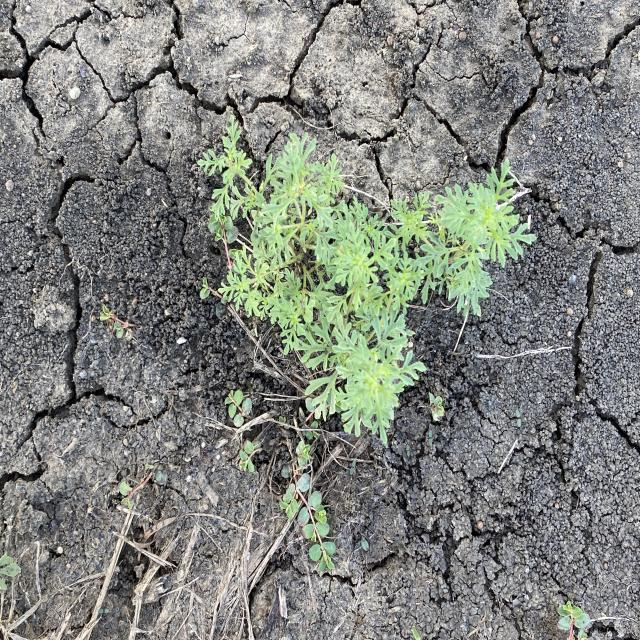Ragweed: (193, 109, 538, 449)
SpottedSpurge: (223, 389, 340, 579)
